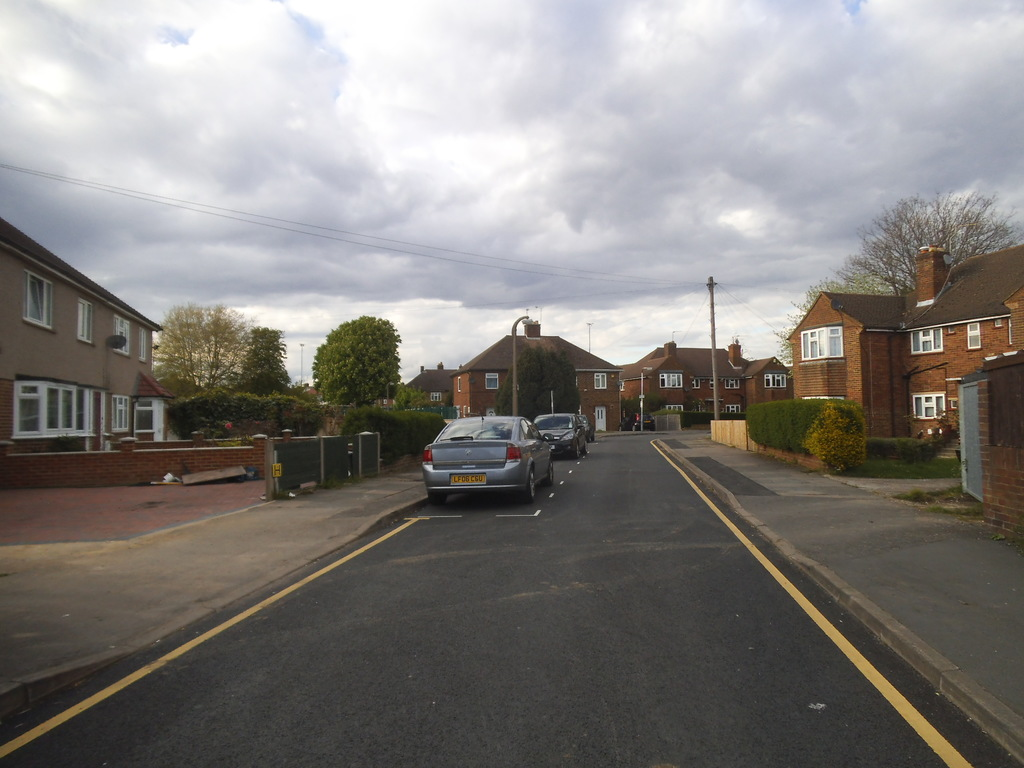Car: (420, 400, 554, 502), (530, 412, 586, 457), (616, 410, 654, 430), (575, 411, 593, 439)
